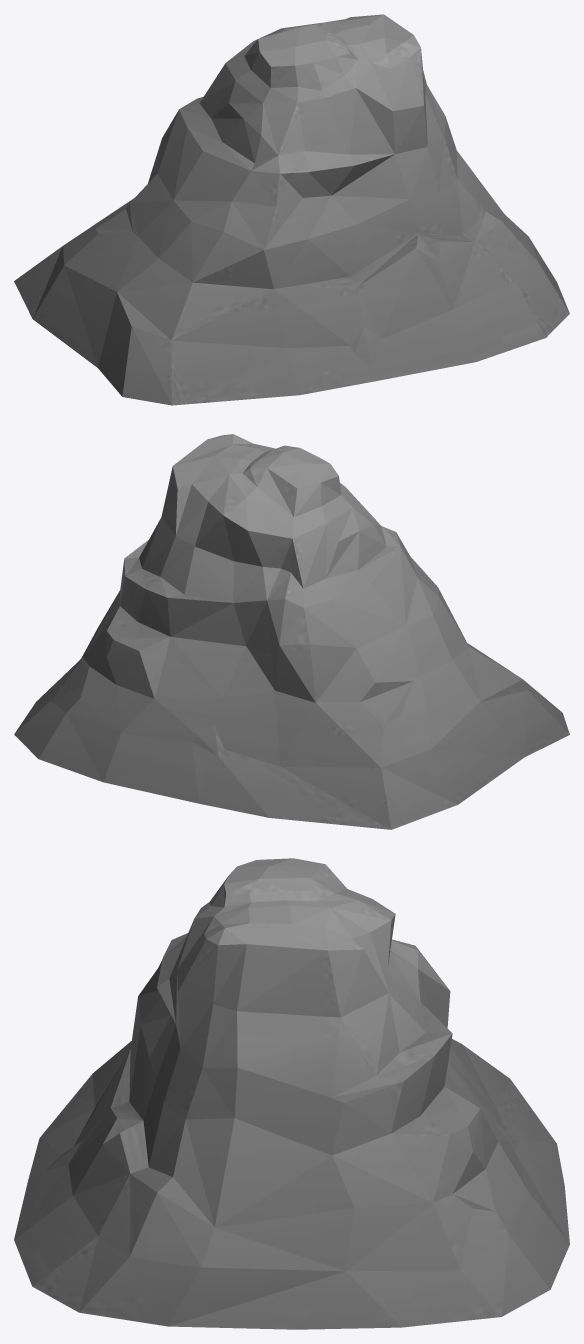
The model's file is mountain_rock.glb.
3 views of the same model, one above another, from view 1: azimuth 30°, elevation 25°; view 2: azimuth 150°, elevation 25°; view 3: azimuth 270°, elevation 25° (orthographic). The views are drawn at different scales.
Visible parts, largest first — view 1: mountain_rock; view 2: mountain_rock; view 3: mountain_rock.
Part boxes in pixels (x1,y1,x2,y2): mountain_rock: (14, 14, 569, 405); mountain_rock: (14, 434, 569, 829); mountain_rock: (14, 858, 569, 1329).
Bounding box in the file's own units: 82.14 × 45.93 × 70.5.
1 material, 1 textured.
